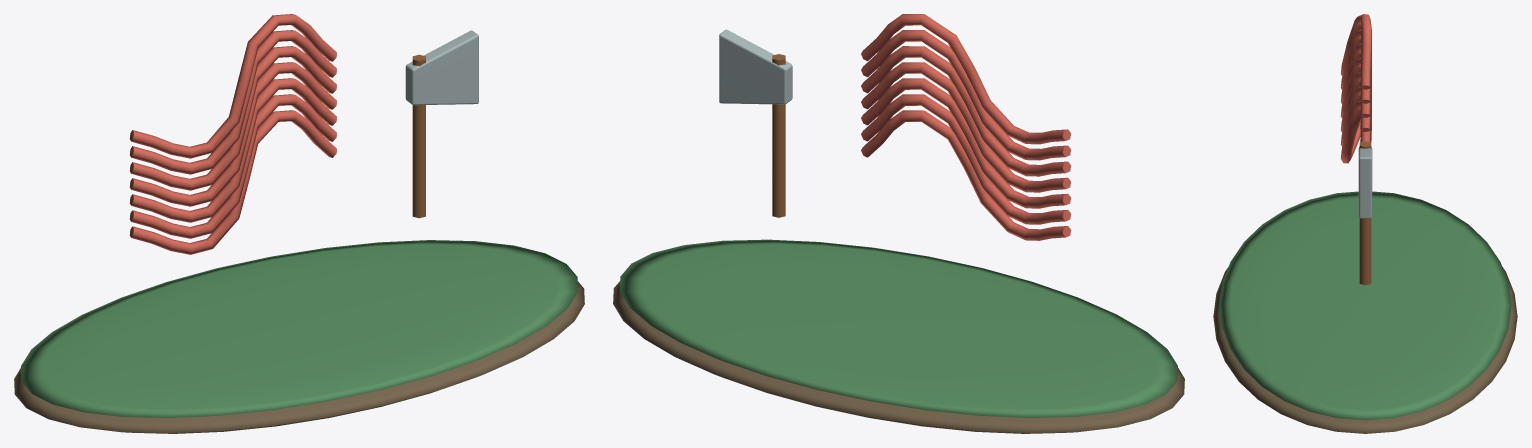
File: red-silk.glb
3 renders of one model, left to right at view 1: azimuth 30°, elevation 25°; view 2: azimuth 150°, elevation 25°; view 3: azimuth 270°, elevation 25°, orthographic. The views are drawn at different scales.
Parts seen in each view (by area): view 1: red-silk_surface_01, red-silk_surface_02, red-silk_surface_00, red-silk_surface_04, red-silk_surface_03; view 2: red-silk_surface_01, red-silk_surface_02, red-silk_surface_00, red-silk_surface_04, red-silk_surface_03; view 3: red-silk_surface_01, red-silk_surface_00, red-silk_surface_02, red-silk_surface_04, red-silk_surface_03.
Boxes of the visible parts, bbox=[...] form: red-silk_surface_01: bbox=[21, 240, 577, 417]; red-silk_surface_02: bbox=[129, 14, 336, 254]; red-silk_surface_00: bbox=[14, 281, 584, 433]; red-silk_surface_04: bbox=[405, 30, 478, 105]; red-silk_surface_03: bbox=[412, 54, 425, 218]; red-silk_surface_01: bbox=[620, 239, 1177, 417]; red-silk_surface_02: bbox=[861, 14, 1071, 240]; red-silk_surface_00: bbox=[613, 281, 1184, 433]; red-silk_surface_04: bbox=[719, 29, 792, 104]; red-silk_surface_03: bbox=[772, 54, 785, 217]; red-silk_surface_01: bbox=[1219, 191, 1511, 420]; red-silk_surface_00: bbox=[1213, 267, 1517, 433]; red-silk_surface_02: bbox=[1340, 14, 1371, 163]; red-silk_surface_04: bbox=[1358, 147, 1372, 218]; red-silk_surface_03: bbox=[1359, 141, 1371, 285].
Bounding box in the file's own units: 4.56 × 2.78 × 2.5.
